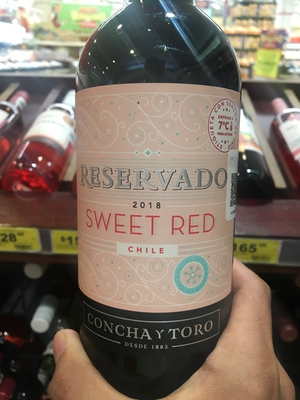reservado sweet red: (70, 13, 261, 398)
